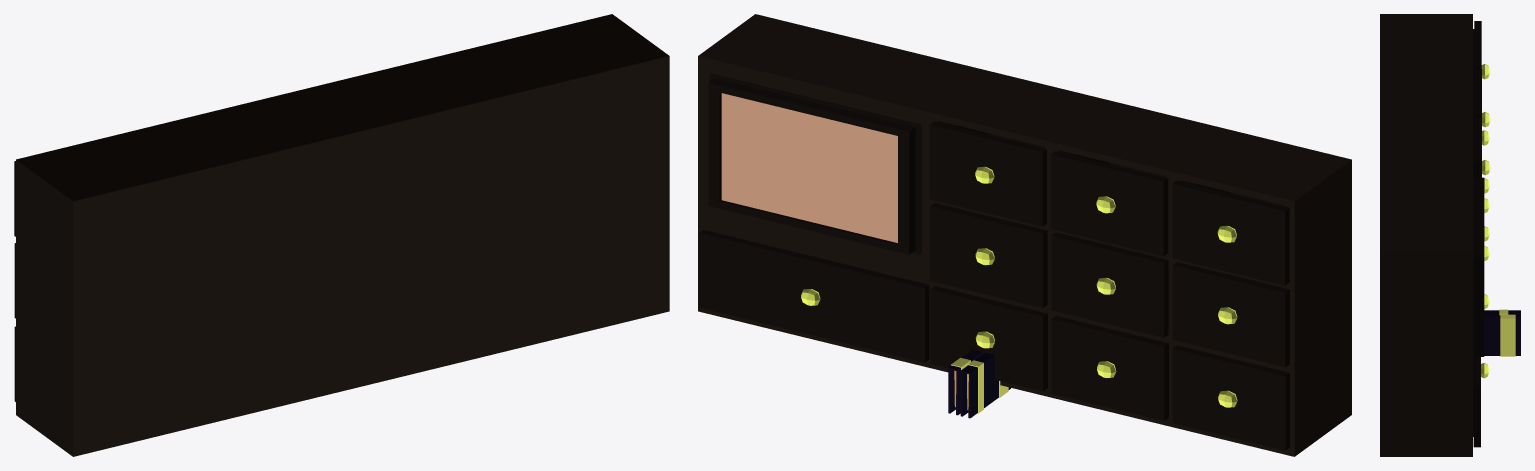
Rendered from Cabinet 5.fbx.
3 renders of one model, left to right at view 1: azimuth 30°, elevation 25°; view 2: azimuth 150°, elevation 25°; view 3: azimuth 270°, elevation 25°, orthographic. The views are drawn at different scales.
Visible parts, largest first — view 1: Node 0; view 2: Node 0, Node 12, Node 2, Node 3, Node 1, Node 5, Node 7, Node 6, Node 4, Node 8, Node 9, Node 10 (+1 smaller); view 3: Node 0, Node 11, Node 12, Node 3, Node 2, Node 1, Node 10.
Boxes of the visible parts, bbox=[...] form: Node 0: bbox=[16, 14, 669, 456]; Node 0: bbox=[698, 14, 1351, 456]; Node 12: bbox=[699, 230, 929, 362]; Node 2: bbox=[1050, 151, 1168, 256]; Node 3: bbox=[929, 121, 1046, 226]; Node 1: bbox=[1172, 180, 1289, 285]; Node 5: bbox=[1051, 232, 1168, 337]; Node 7: bbox=[1172, 345, 1289, 450]; Node 6: bbox=[930, 203, 1047, 308]; Node 4: bbox=[1172, 262, 1289, 367]; Node 8: bbox=[1051, 316, 1168, 420]; Node 9: bbox=[930, 286, 1047, 391]; Node 10: bbox=[960, 352, 1010, 418]; Node 0: bbox=[1380, 14, 1484, 456]; Node 11: bbox=[1484, 314, 1520, 356]; Node 12: bbox=[1473, 357, 1489, 447]; Node 3: bbox=[1473, 117, 1490, 177]; Node 2: bbox=[1473, 69, 1490, 127]; Node 1: bbox=[1473, 21, 1490, 79]; Node 10: bbox=[1484, 309, 1520, 315].
Size of the model in its own units: 0.6338 by 1.08 by 2.51.
